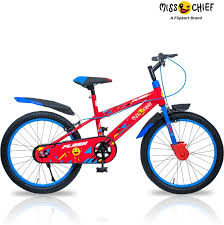Bicycle: (7, 53, 219, 195)
